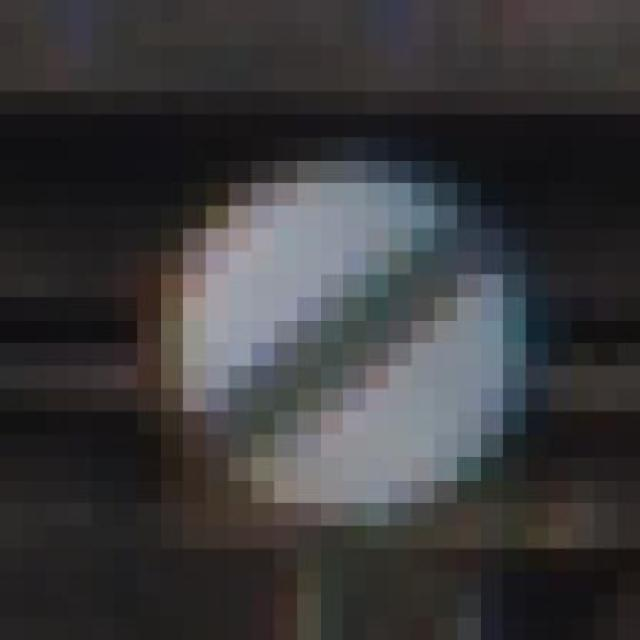End of all speed and passing limits: (115, 137, 594, 526)
